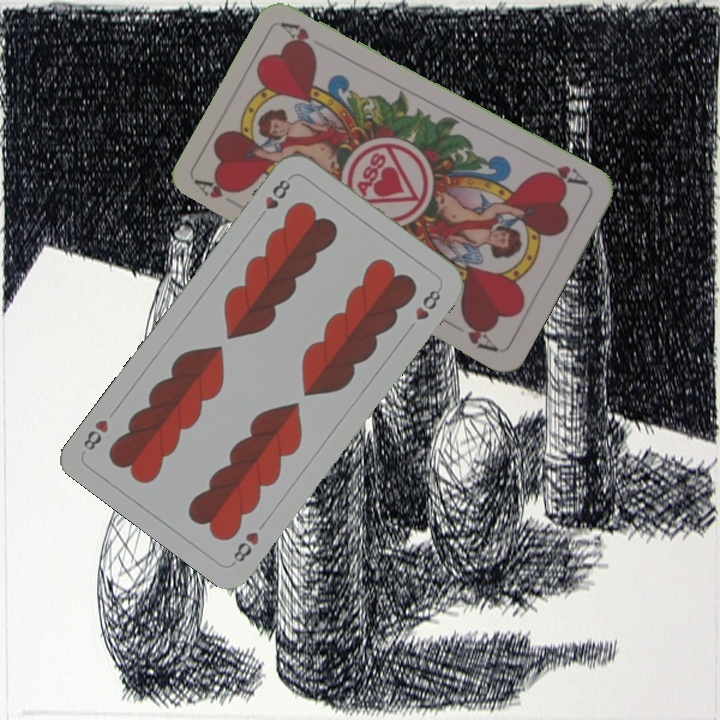H8: (229, 527, 262, 567), (260, 175, 293, 213)
HA: (534, 161, 591, 189), (193, 176, 241, 201)
